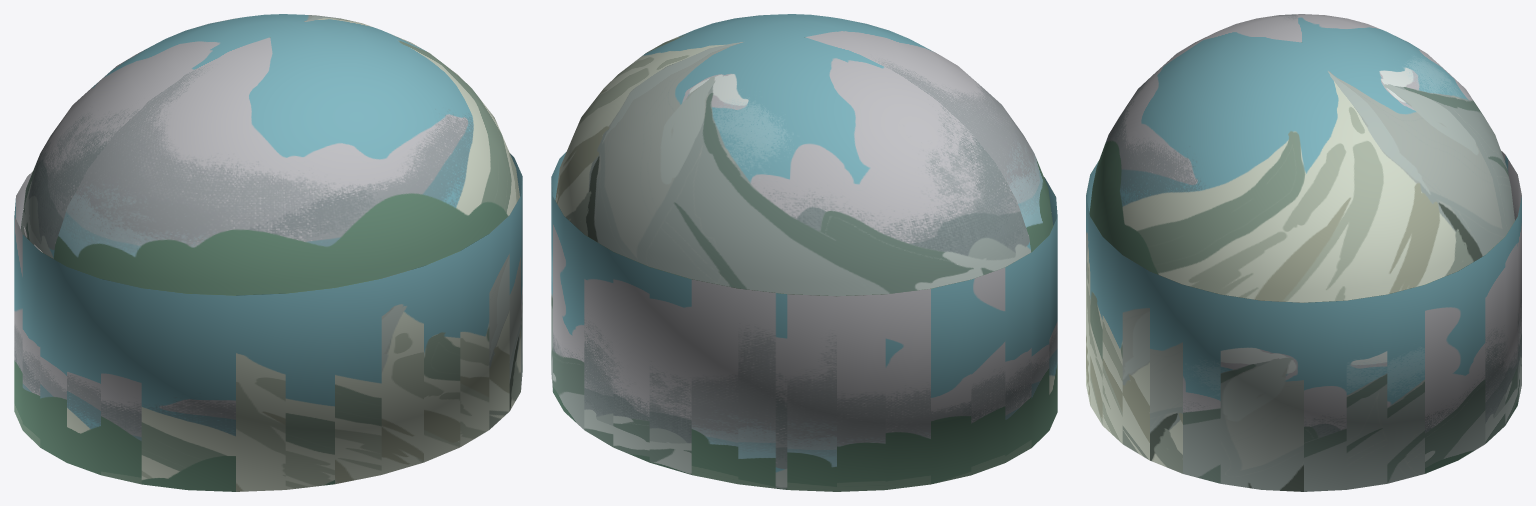
The model's file is pillar combo.fbx.
3 views of the same model, side by side, from view 1: azimuth 30°, elevation 25°; view 2: azimuth 150°, elevation 25°; view 3: azimuth 270°, elevation 25° (orthographic). The views are drawn at different scales.
Visible parts, largest first — view 1: Sphere; view 2: Sphere; view 3: Sphere.
Boxes of the visible parts, x1,y1,x2,y2 form: Sphere: (14,14,522,491); Sphere: (551,14,1057,491); Sphere: (1086,14,1521,491).
Bounding box in the file's own units: 6522 × 7591 × 5655.
